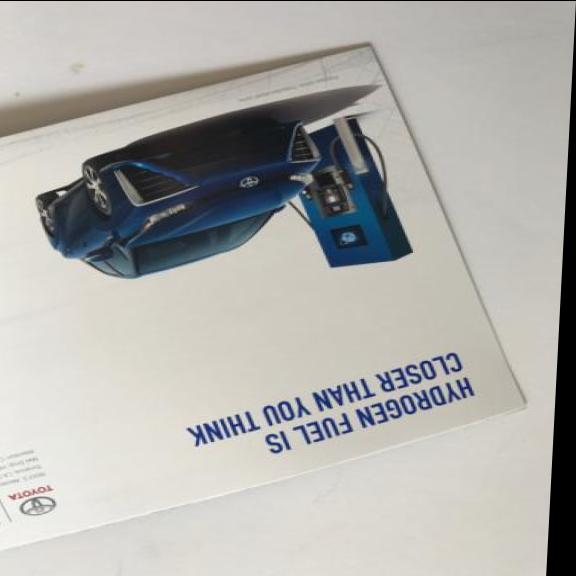Kertas: (0, 34, 547, 558)
